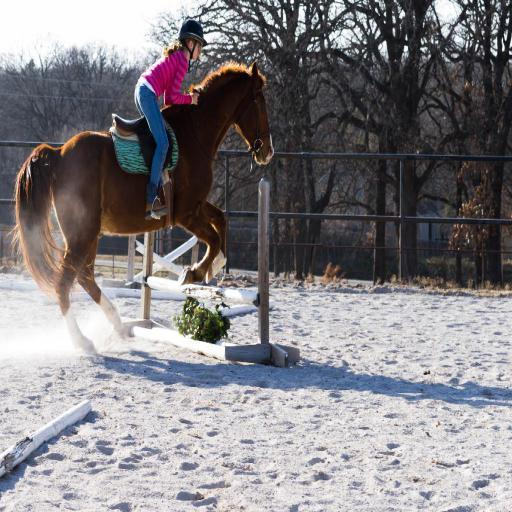Horse: (5, 59, 272, 353)
